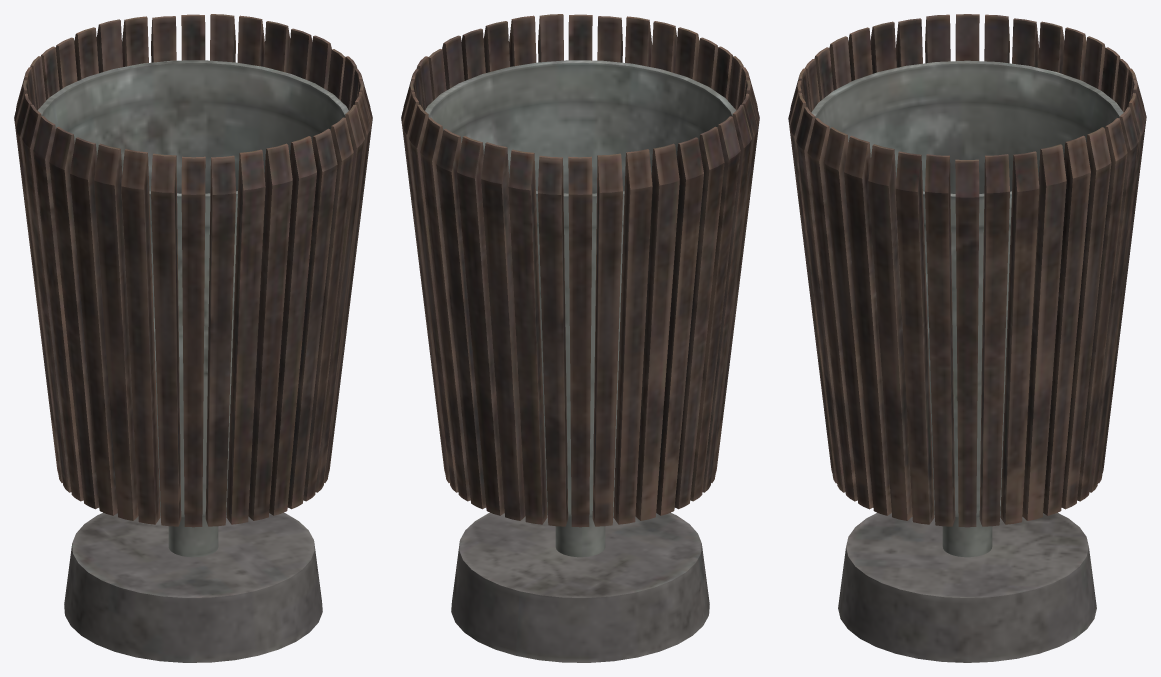
File: SM_Dustbin_01.FBX
3 views of the same model, side by side, from view 1: azimuth 30°, elevation 25°; view 2: azimuth 150°, elevation 25°; view 3: azimuth 270°, elevation 25° (orthographic).
Parts seen in each view (by area): view 1: SM_Dustbin_01_LOD0; view 2: SM_Dustbin_01_LOD0; view 3: SM_Dustbin_01_LOD0.
Part boxes in pixels (x1=…): SM_Dustbin_01_LOD0: x1=14, y1=14, x2=372, y2=662; SM_Dustbin_01_LOD0: x1=401, y1=14, x2=759, y2=662; SM_Dustbin_01_LOD0: x1=788, y1=14, x2=1146, y2=662.
Size of what is drawn, in the model's own units: 55.59 by 55.59 by 89.67.
